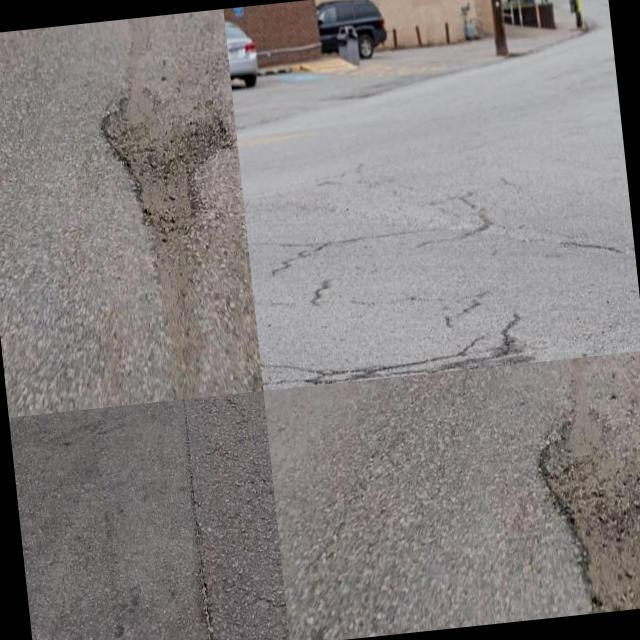Pothole: (97, 83, 235, 238), (537, 407, 640, 613)
